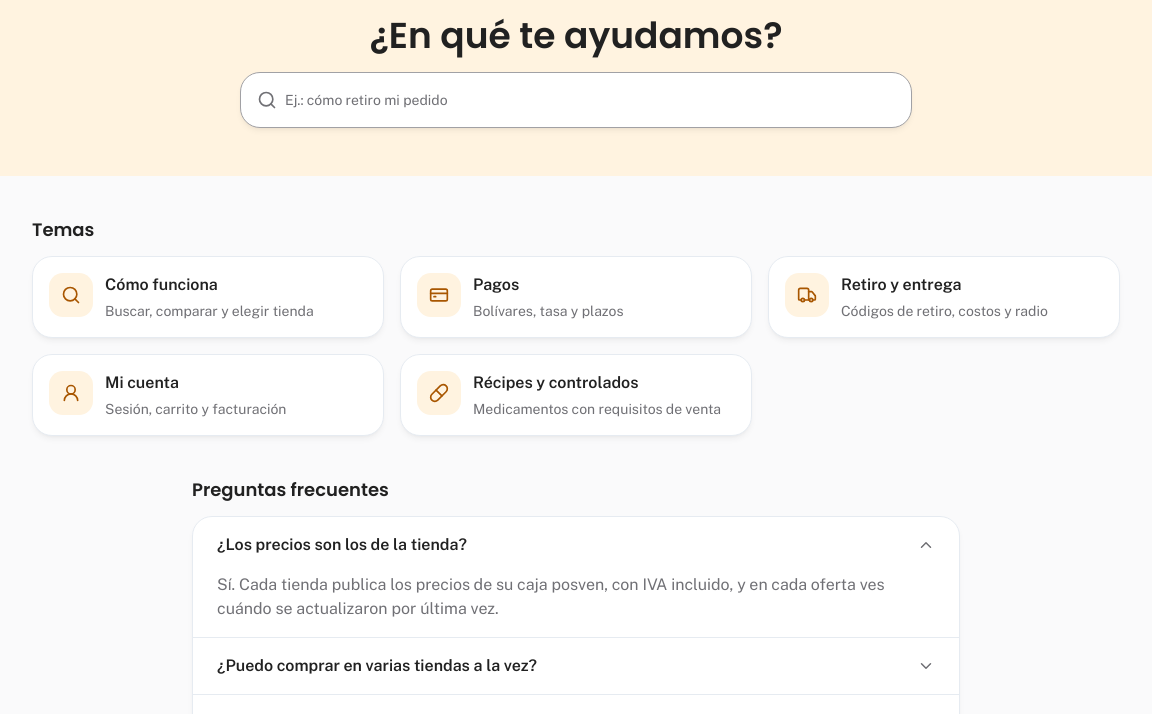
it: HelpCenter › con canal de contacto, sin coincidencias invita a escribir
Type "zzzzzz" into the search field named "Buscar en la ayuda".
click(590, 100); type("zzzzzz")  # box x1=285 y1=78 x2=895 y2=122
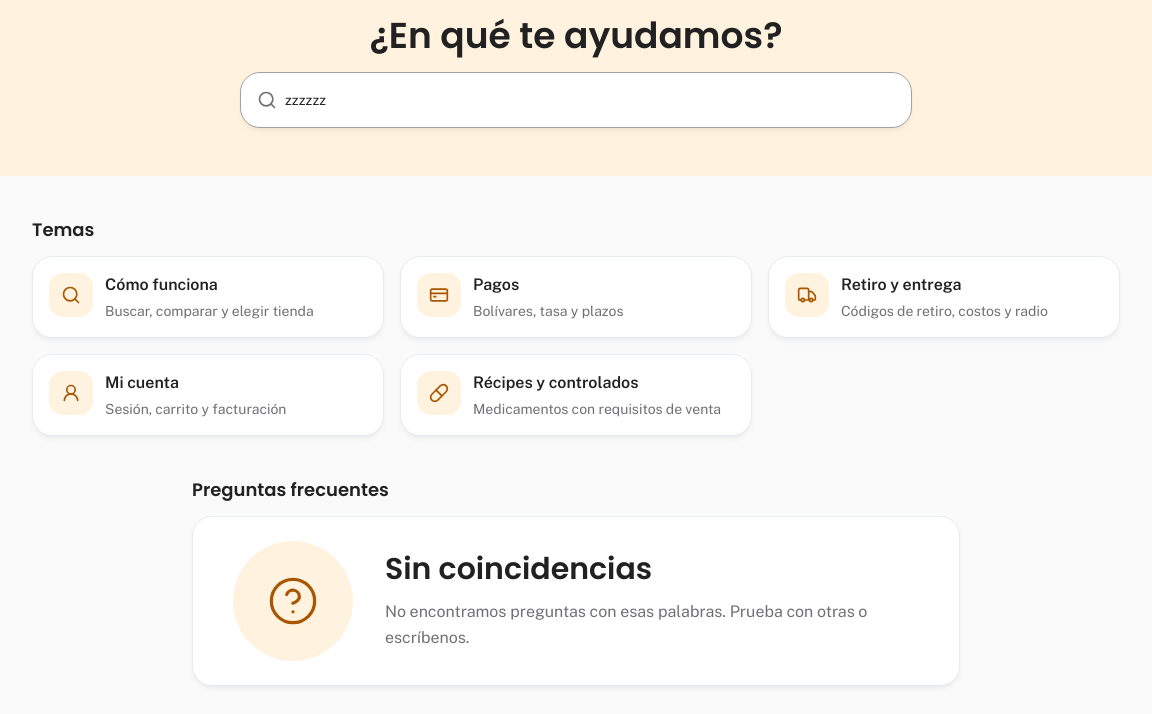
Result: the text "escríbenos" is shown at x1=385 y1=602 x2=867 y2=647
